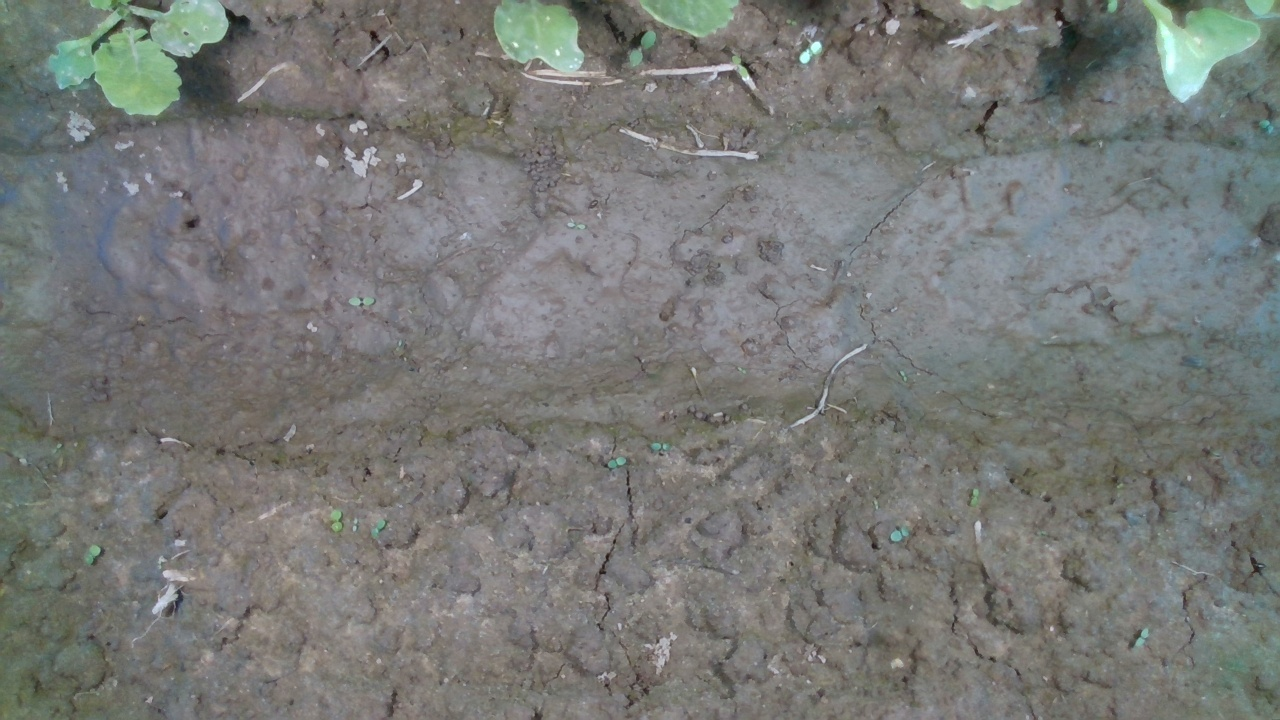weed: (340, 292, 383, 314), (326, 506, 347, 536), (81, 542, 103, 569), (1131, 622, 1153, 648), (887, 518, 907, 546), (606, 452, 629, 476), (565, 215, 589, 233), (968, 485, 982, 509), (646, 440, 668, 454), (368, 516, 380, 539)
